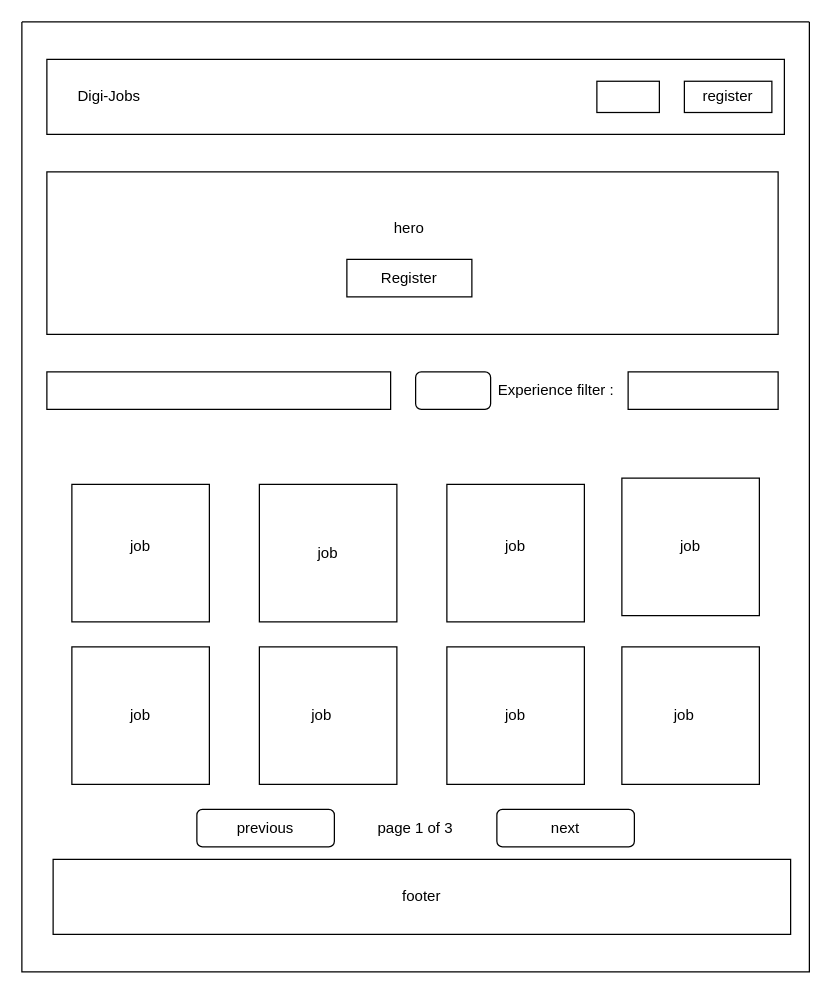
Some shapes in this 831 by 994 pixel diagram are drawn without their labels. The shapes that lost their labels are listed below. From the top down, each one's centre as x and y in pixels, then its label:
At (627,96): "login".
At (218,390): "search input".
At (452,390): "search".
At (702,390): "filter input".
